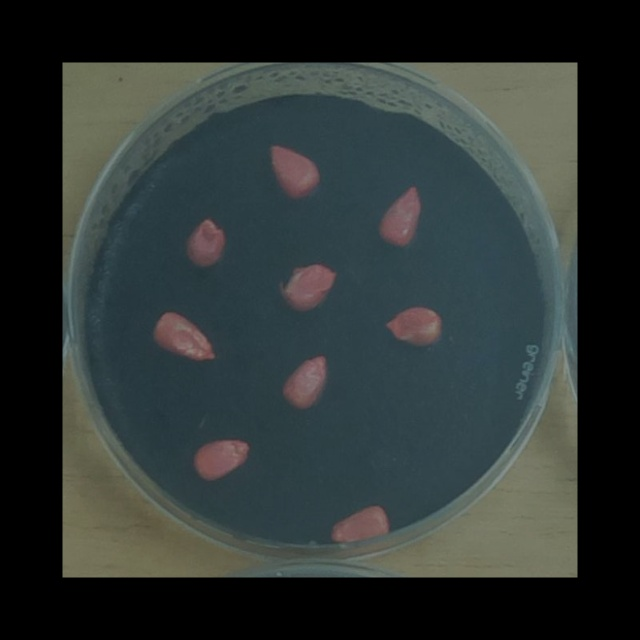Zea mays: (145, 304, 223, 368), (272, 258, 343, 320), (372, 179, 427, 254), (263, 140, 325, 206), (276, 349, 335, 416), (188, 432, 256, 489), (378, 300, 447, 352), (323, 501, 393, 550), (179, 212, 231, 274)
